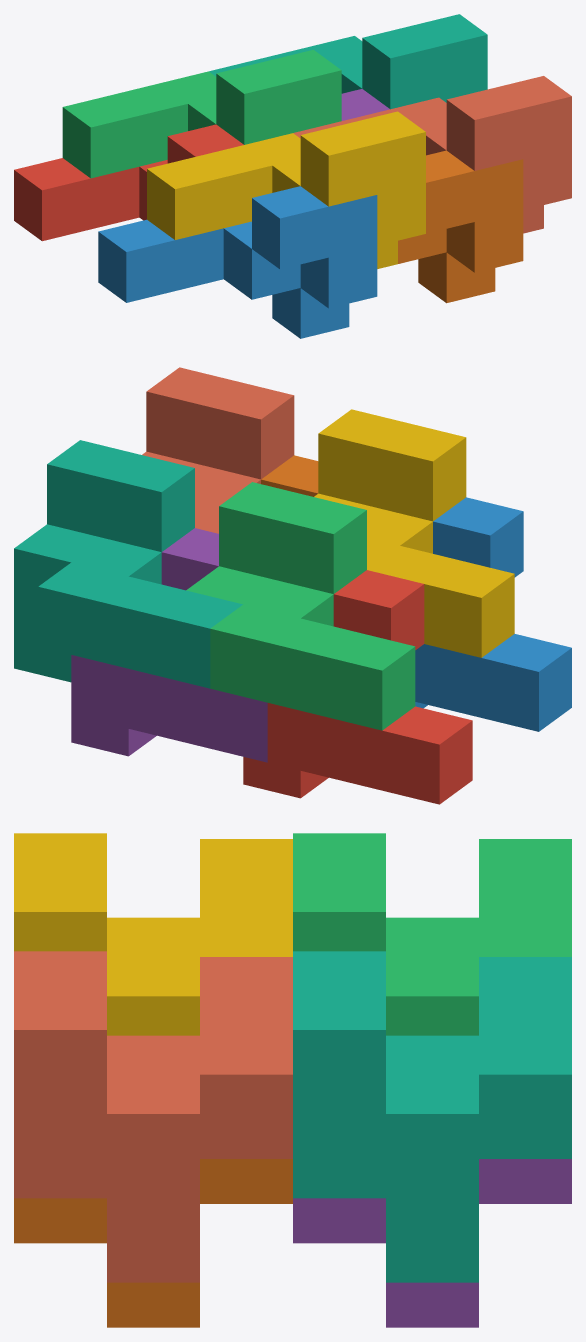
The model's file is tiling.obj.
3 renders of one model, top to bottom at view 1: azimuth 30°, elevation 25°; view 2: azimuth 150°, elevation 25°; view 3: azimuth 270°, elevation 25°, orthographic. The views are drawn at different scales.
Parts seen in each view (by area): view 1: copy_1_domain_2, copy_1_domain_4, copy_1_domain_3, copy_1_domain_8, copy_1_domain_6, copy_1_domain_7, copy_1_domain_1, copy_1_domain_5; view 2: copy_1_domain_7, copy_1_domain_3, copy_1_domain_4, copy_1_domain_1, copy_1_domain_2, copy_1_domain_5, copy_1_domain_8, copy_1_domain_6; view 3: copy_1_domain_7, copy_1_domain_8, copy_1_domain_3, copy_1_domain_4, copy_1_domain_5, copy_1_domain_6.
Boxes of the visible parts, bbox=[...] form: copy_1_domain_2: bbox=[98, 186, 377, 338]; copy_1_domain_4: bbox=[147, 111, 425, 268]; copy_1_domain_3: bbox=[62, 49, 341, 178]; copy_1_domain_8: bbox=[293, 76, 571, 233]; copy_1_domain_6: bbox=[398, 150, 523, 303]; copy_1_domain_7: bbox=[209, 14, 487, 109]; copy_1_domain_1: bbox=[14, 124, 243, 241]; copy_1_domain_5: bbox=[341, 89, 389, 120]; copy_1_domain_7: bbox=[14, 440, 242, 688]; copy_1_domain_3: bbox=[186, 482, 415, 730]; copy_1_domain_4: bbox=[314, 409, 514, 657]; copy_1_domain_1: bbox=[243, 570, 472, 804]; copy_1_domain_2: bbox=[415, 497, 571, 731]; copy_1_domain_5: bbox=[71, 528, 267, 762]; copy_1_domain_8: bbox=[142, 367, 294, 533]; copy_1_domain_6: bbox=[261, 455, 318, 496]; copy_1_domain_7: bbox=[293, 951, 571, 1282]; copy_1_domain_8: bbox=[14, 951, 292, 1282]; copy_1_domain_3: bbox=[293, 833, 571, 1035]; copy_1_domain_4: bbox=[14, 833, 292, 1035]; copy_1_domain_5: bbox=[293, 1159, 571, 1327]; copy_1_domain_6: bbox=[14, 1159, 292, 1327].
Size of the model in its own units: 8 by 4 by 6.
